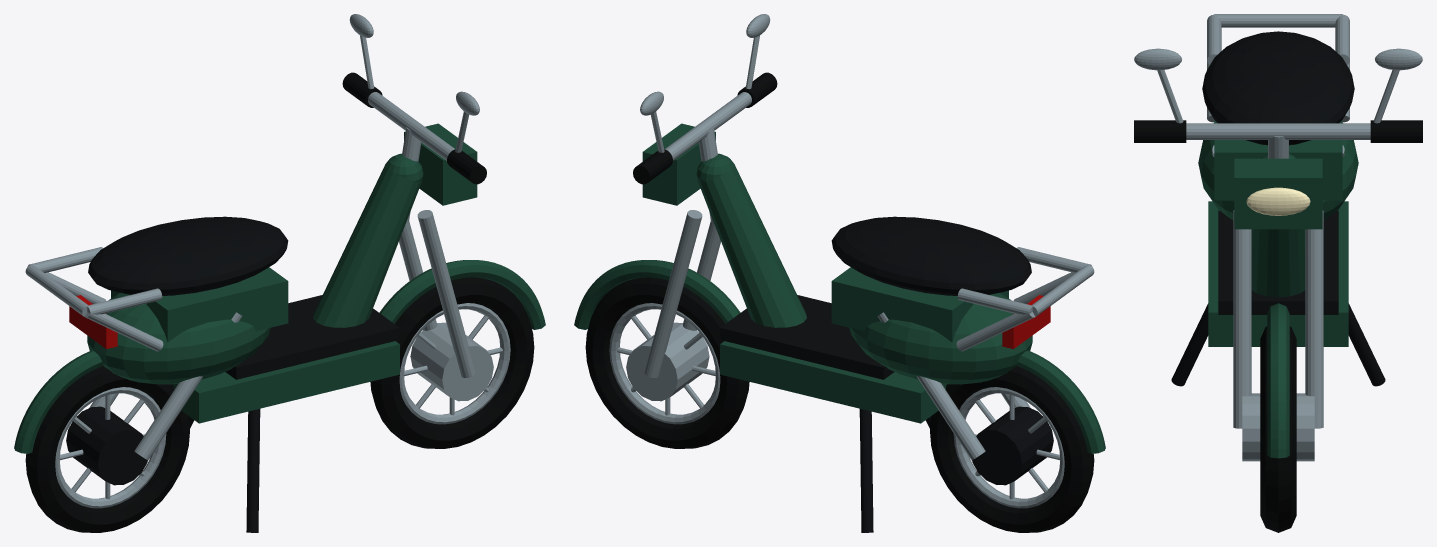
Rendered from ebike_3.dae.
The picture shows the model from 3 angles, left to right: view 1: azimuth 30°, elevation 25°; view 2: azimuth 150°, elevation 25°; view 3: azimuth 270°, elevation 25°; orthographic projection. The views are drawn at different scales.
Visible parts, largest first — view 1: part3node, part2node, part1node, part0node, part5node; view 2: part3node, part2node, part1node, part0node, part5node; view 3: part3node, part1node, part2node, part0node, part4node.
Boxes of the visible parts, bbox=[...] form: part3node: bbox=[14, 123, 545, 453]; part2node: bbox=[66, 216, 399, 532]; part1node: bbox=[25, 14, 510, 508]; part0node: bbox=[25, 72, 534, 532]; part5node: bbox=[69, 295, 117, 348]; part3node: bbox=[574, 123, 1105, 453]; part2node: bbox=[720, 216, 1053, 532]; part1node: bbox=[609, 14, 1094, 508]; part0node: bbox=[585, 72, 1094, 532]; part5node: bbox=[1002, 295, 1050, 348]; part3node: bbox=[1198, 120, 1358, 458]; part1node: bbox=[1134, 14, 1422, 461]; part2node: bbox=[1171, 31, 1385, 386]; part0node: bbox=[1134, 120, 1422, 532]; part4node: bbox=[1246, 187, 1310, 215].
Size of the model in its own units: 0.18 by 0.075 by 0.13.
